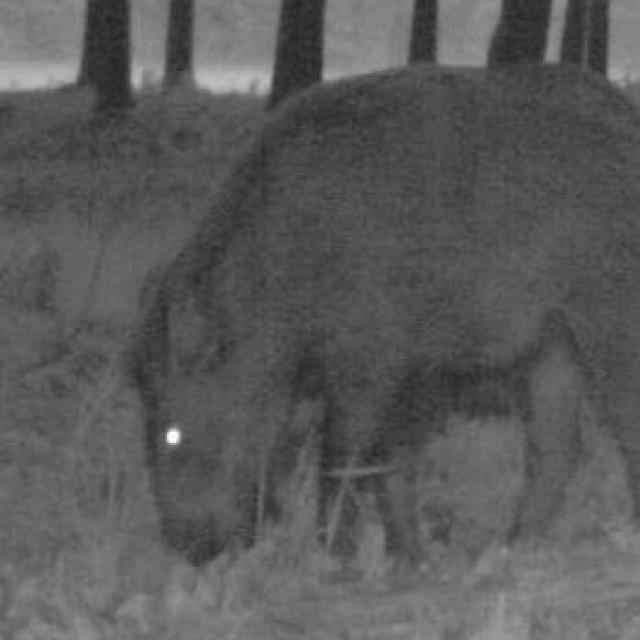pig: (108, 44, 640, 584)
